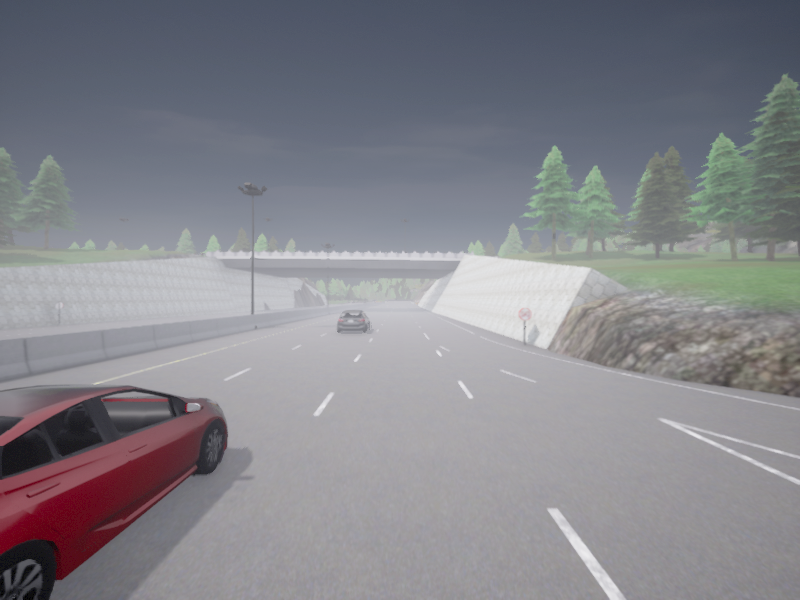vehicle: (0, 384, 227, 599), (337, 310, 369, 332)
